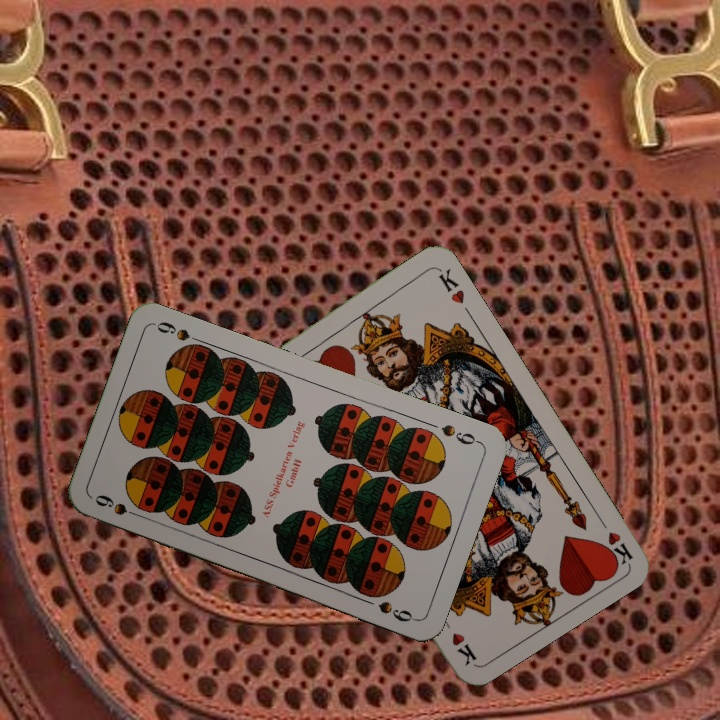HK: (593, 511, 636, 569)
S9: (90, 490, 147, 521), (437, 420, 483, 448)
